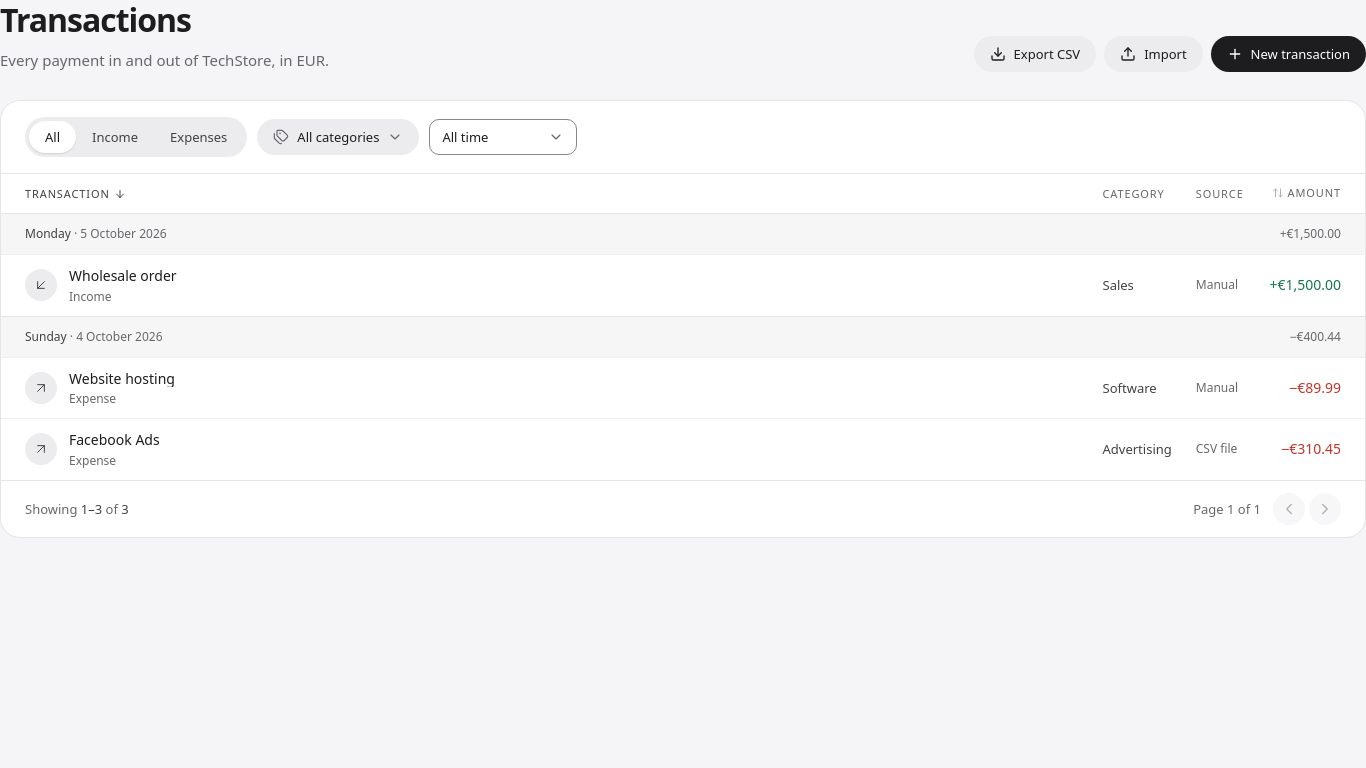
Scenario: recording and changing transactions › edits a transaction with its values prefilled, sending only what changed
The width and height of the screenshot is (1366, 768).
Click the row "Website hosting Expense Software Manual −€89.99" at (683, 388), box [1,357,1365,418]
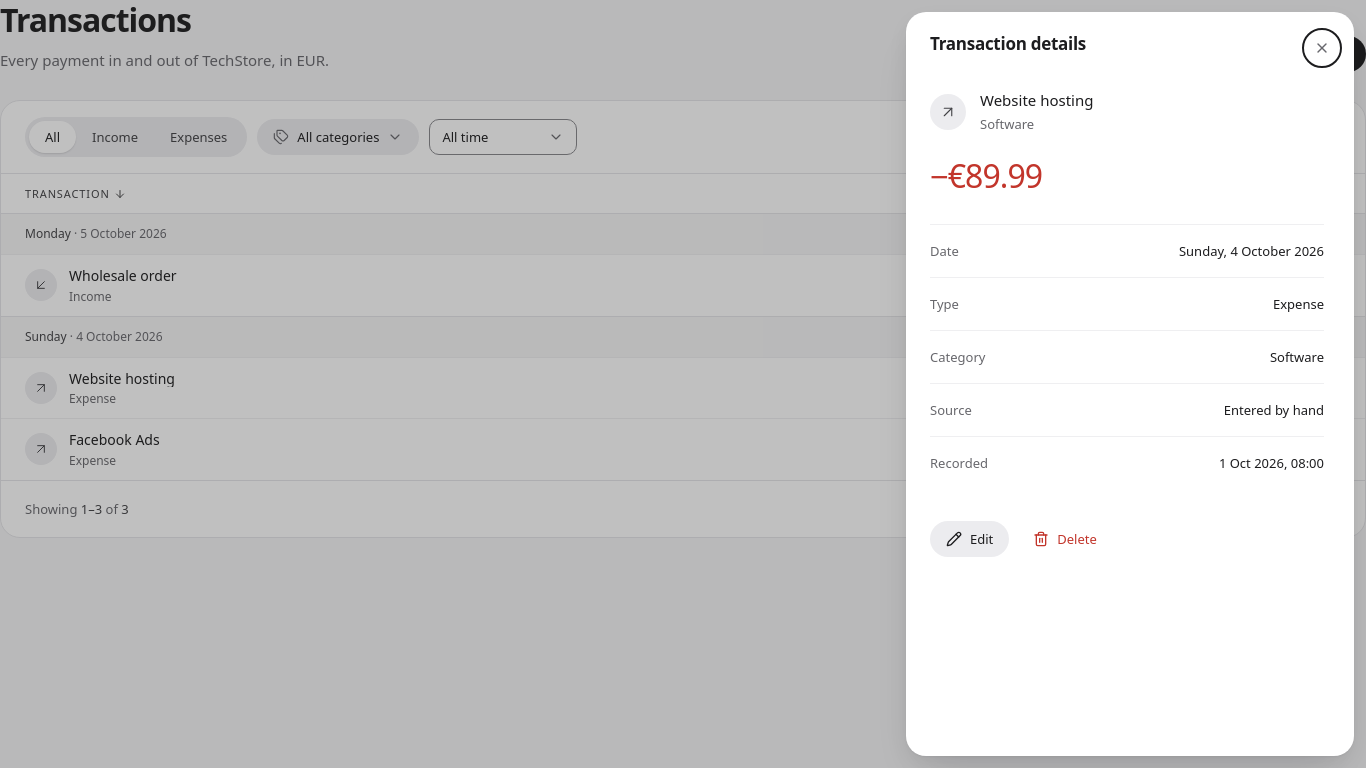
Now the text "Entered by hand" is shown, box [1224,398,1324,422]
Click the button "Edit" at (970, 539), box [930,521,1009,557]
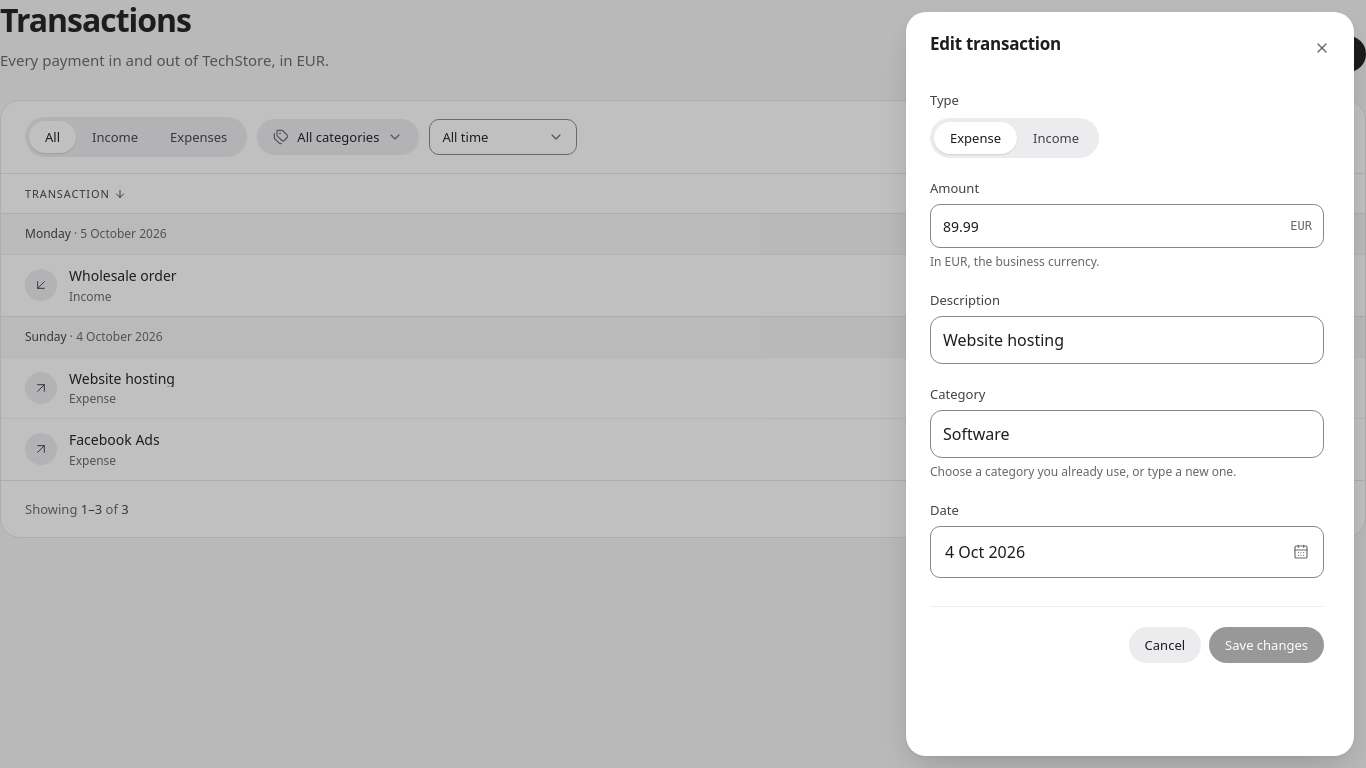
Now the field labelled "Amount" holds "89.99"
Now the field labelled "Description" holds "Website hosting", box [930,316,1324,364]
Now the field labelled "Category" holds "Software", box [930,410,1324,458]
Replace the text in the field labelled "Amount" with "95" at (1127, 226), box [930,204,1324,248]
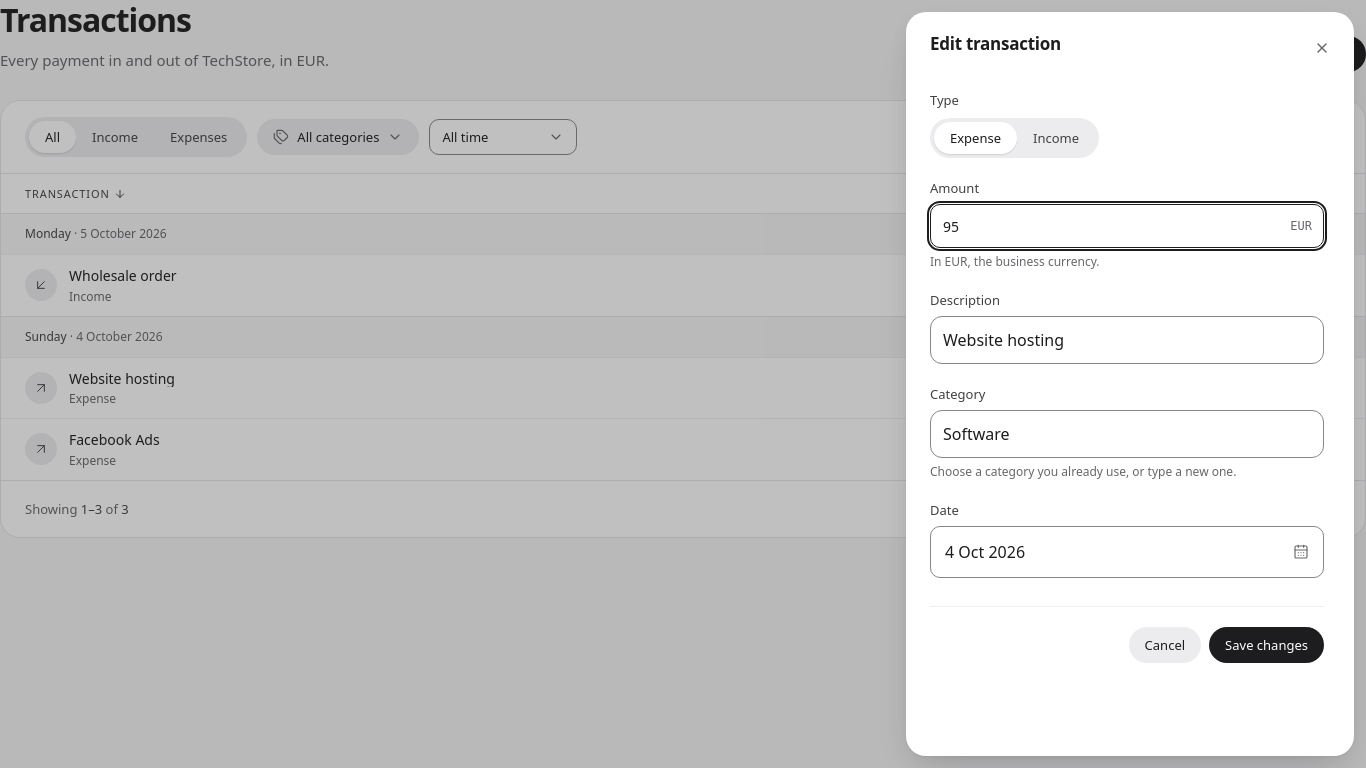
Click the button "Save changes" at (1267, 645), box [1209,627,1324,663]
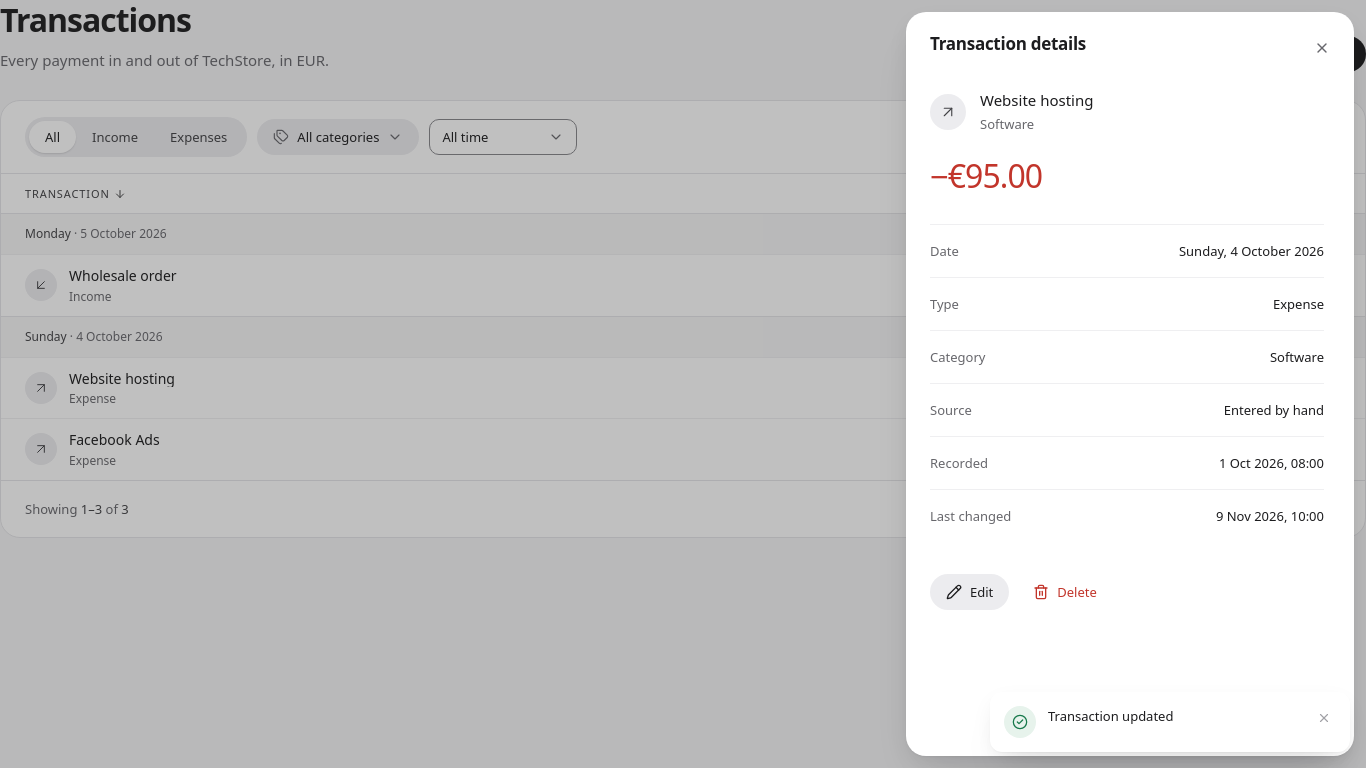
Now the text "−€95.00" is shown, box [930,154,1042,197]
Click the button named "Close" at (1322, 48), box [1306,32,1338,64]
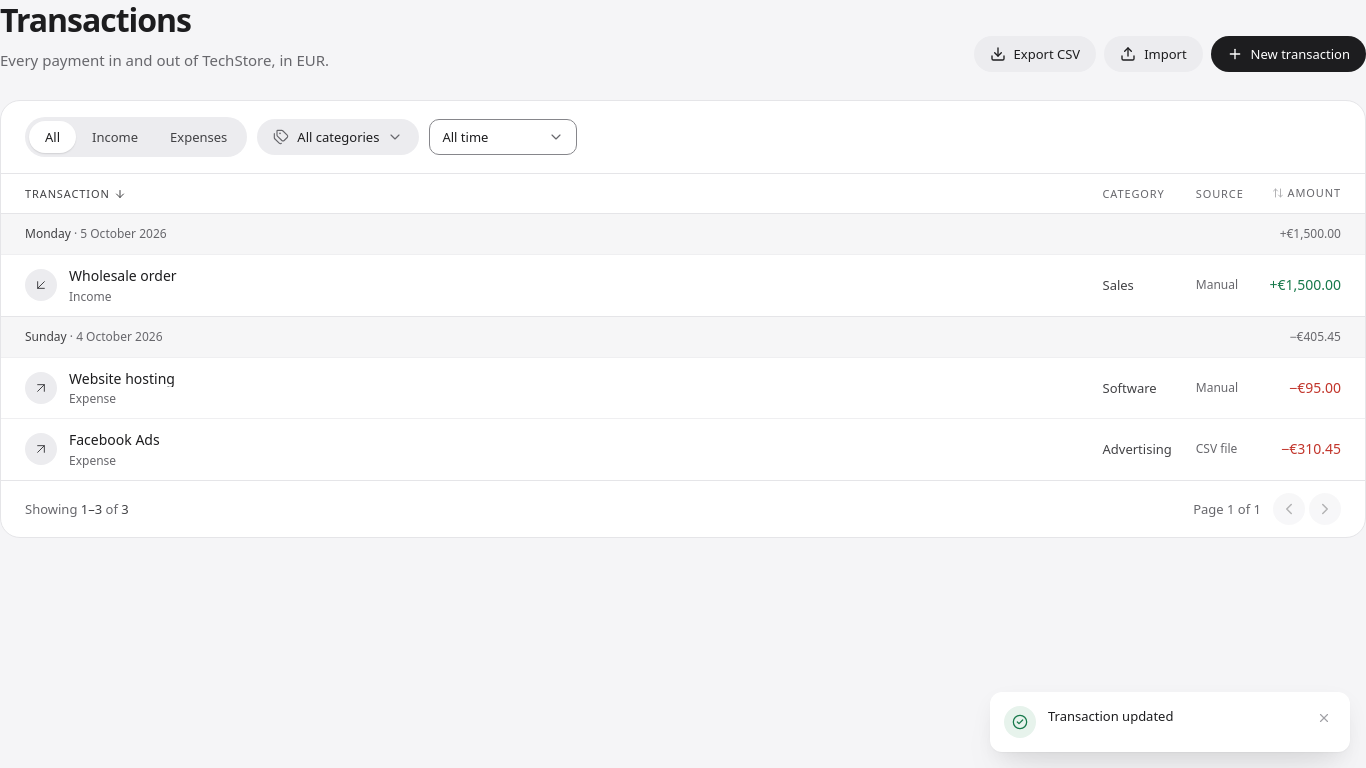
Now the text "−€95.00" is shown, box [1289,378,1341,397]
Now the dialog is gone
